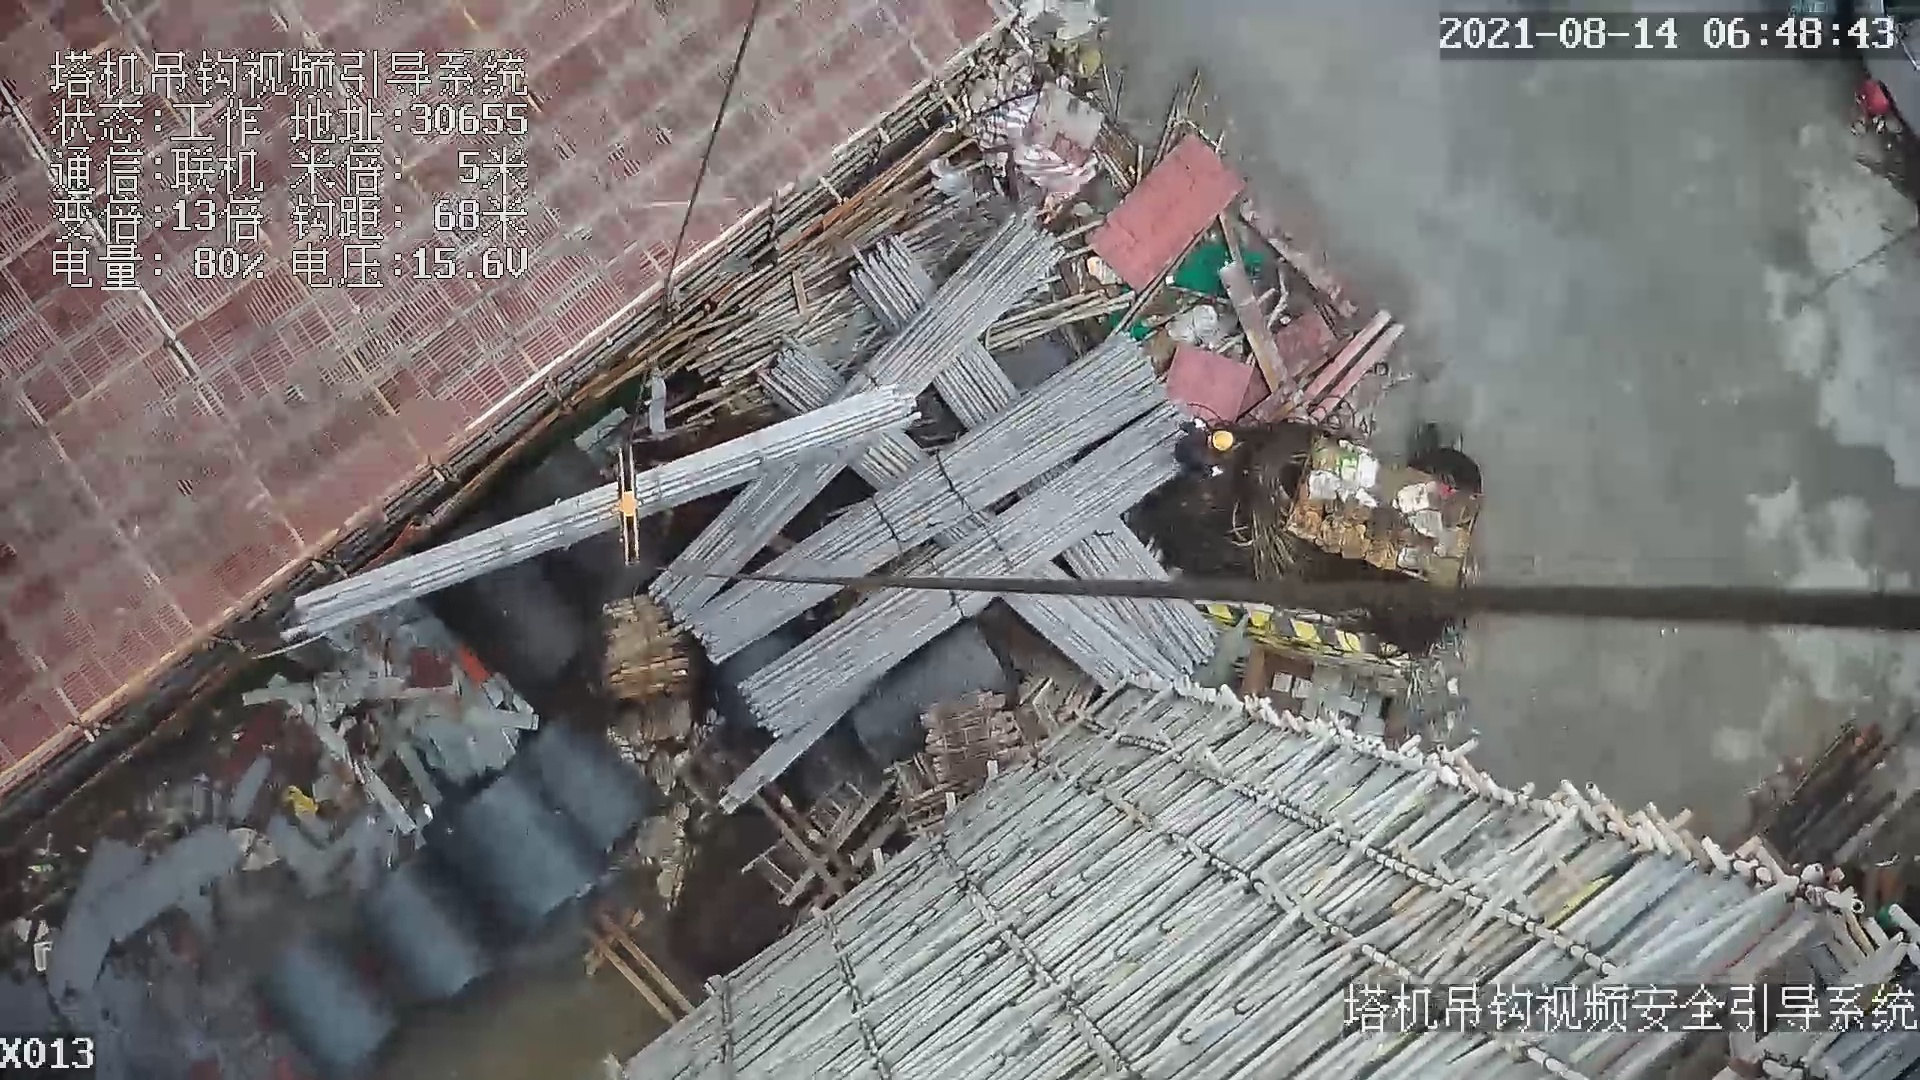board: (1099, 137, 1240, 295)
helmet: (1207, 424, 1236, 457)
hook: (609, 445, 655, 571)
person: (1173, 410, 1236, 481)
